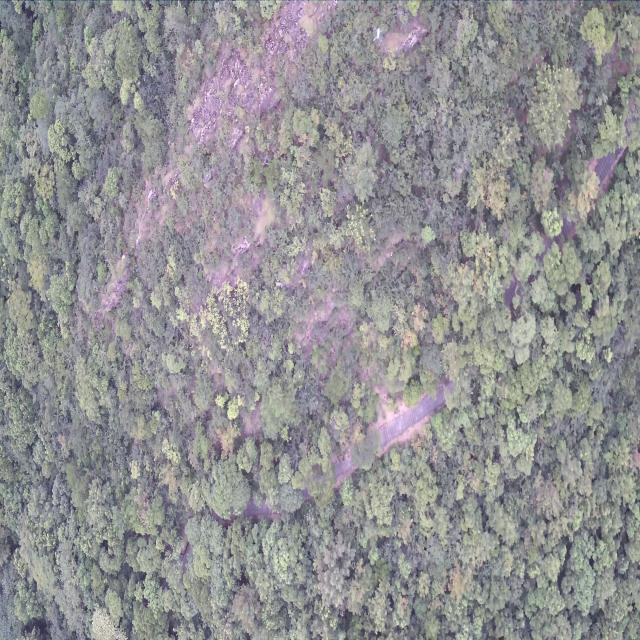UAV: (372, 26, 383, 42)
